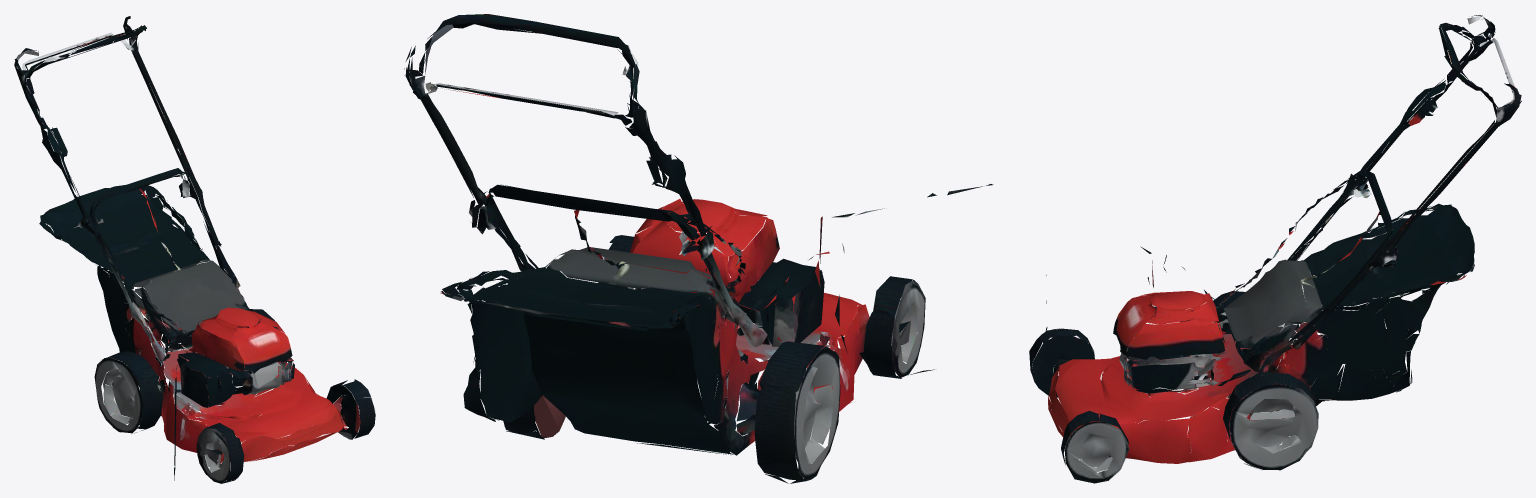
File: mower.glb
The picture shows the model from 3 angles, left to right: view 1: azimuth 30°, elevation 25°; view 2: azimuth 150°, elevation 25°; view 3: azimuth 270°, elevation 25°; orthographic projection. The views are drawn at different scales.
Visible parts, largest first — view 1: mower; view 2: mower; view 3: mower.
Boxes of the visible parts, left/top/right/bottom form: mower: left=14, top=16, right=375, bottom=483; mower: left=404, top=14, right=993, bottom=483; mower: left=1029, top=15, right=1521, bottom=483.
Size of the model in its own units: 0.5603 by 0.7997 by 0.95.
1 material, 1 textured.
